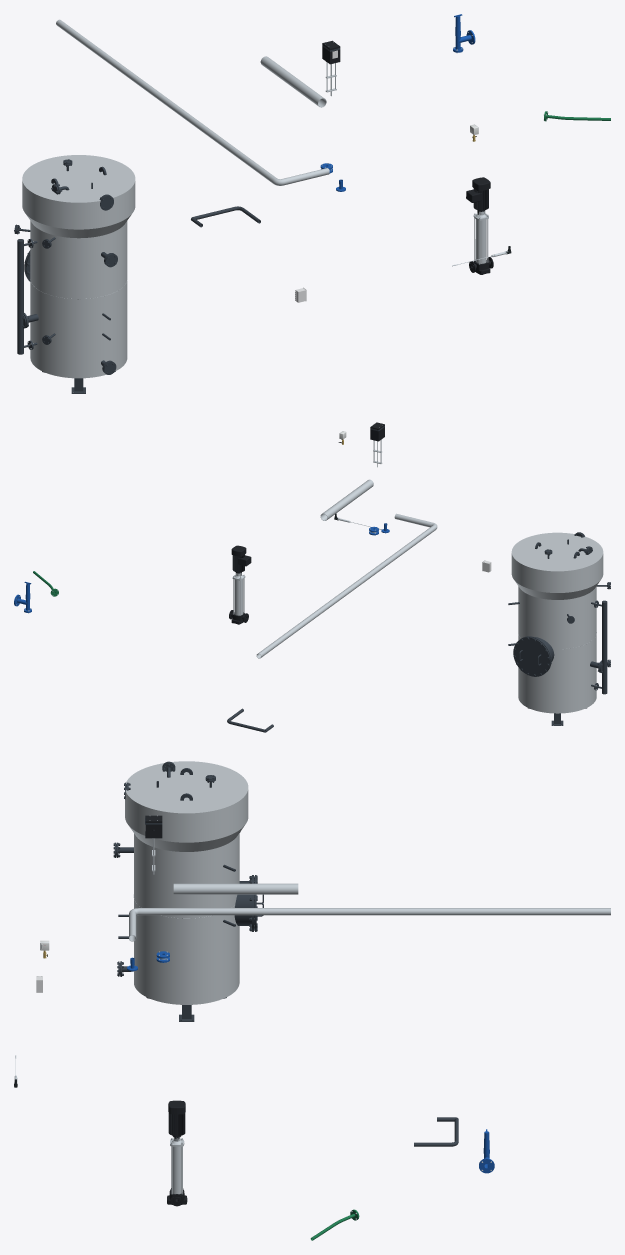
The model's file is s4000-1-4ZahAdFq.glb.
The picture shows the model from 3 angles, top to bottom: view 1: azimuth 30°, elevation 25°; view 2: azimuth 150°, elevation 25°; view 3: azimuth 270°, elevation 25°; orthographic projection. The views are drawn at different scales.
Visible parts, largest first — view 1: deaerator / shell, safety_vent_1 / steel, deaerator / dark, steam_delivery / steel, pump_1 CAD solid 15; view 2: deaerator / shell, safety_vent_1 / steel, DA3 CAD 76, deaerator / dark, steam_delivery / steel; view 3: deaerator / shell, safety_vent_1 / steel, steam_delivery / steel.
Part boxes in pixels (bbox=[...]): deaerator / shell: bbox=[22, 155, 135, 378]; safety_vent_1 / steel: bbox=[56, 19, 329, 185]; deaerator / dark: bbox=[17, 239, 37, 354]; steam_delivery / steel: bbox=[260, 56, 326, 107]; pump_1 CAD solid 15: bbox=[466, 177, 490, 210]; deaerator / shell: bbox=[511, 532, 603, 713]; safety_vent_1 / steel: bbox=[256, 513, 437, 658]; DA3 CAD 76: bbox=[513, 637, 550, 676]; deaerator / dark: bbox=[591, 600, 607, 694]; steam_delivery / steel: bbox=[320, 479, 373, 520]; deaerator / shell: bbox=[125, 761, 248, 1004]; safety_vent_1 / steel: bbox=[129, 908, 610, 941]; steam_delivery / steel: bbox=[173, 883, 298, 894].
Size of the model in its own units: 8.51 by 3.57 by 6.19.
